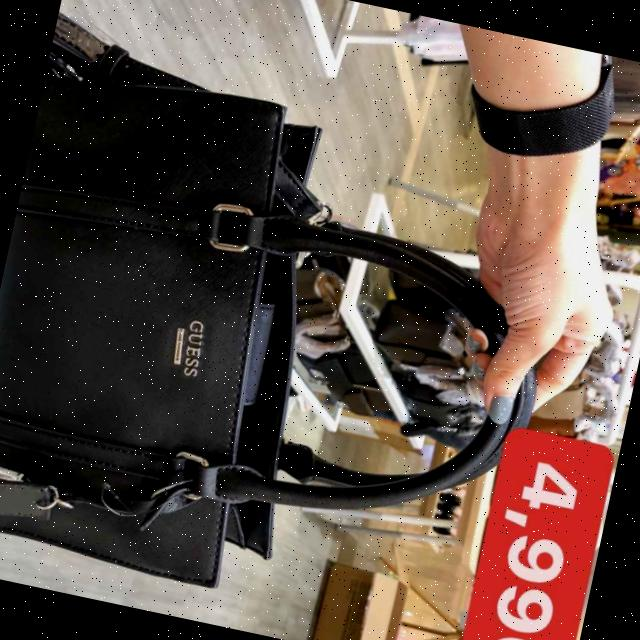Handbag: (0, 0, 381, 630)
